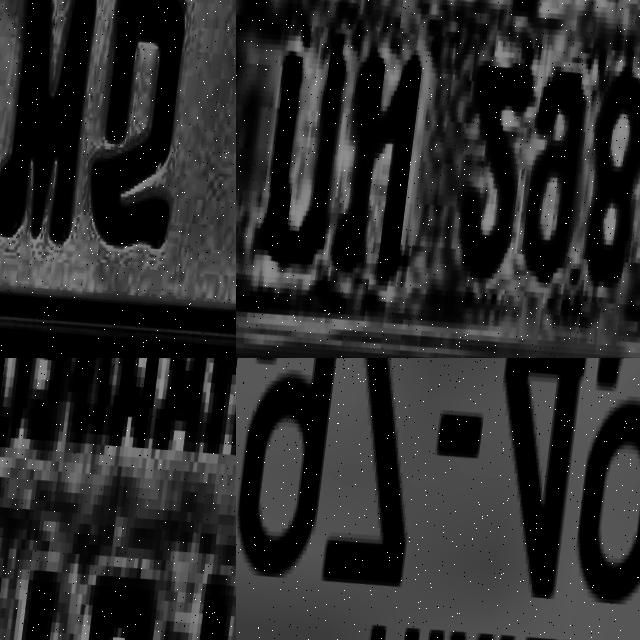license-plate: (236, 0, 640, 358), (236, 358, 640, 640), (0, 0, 236, 358), (0, 358, 236, 640)
